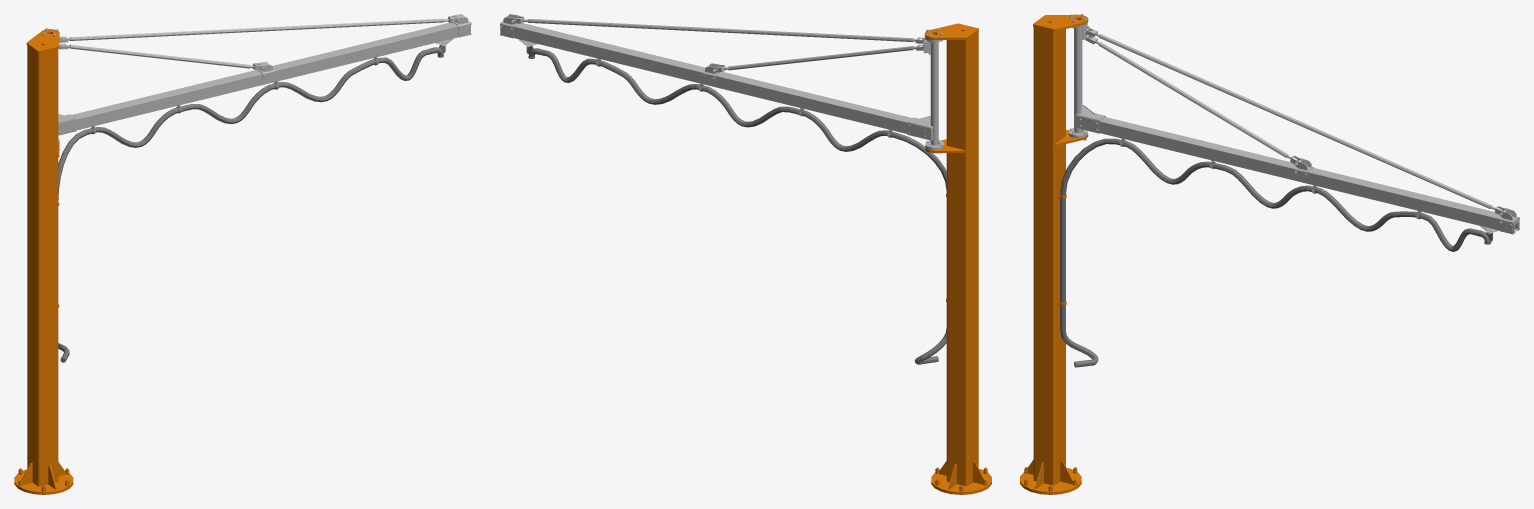
File: aardwolf_all_part_Over Braced Jib Crane - 4m - 250kg@p1_-100_-166_0@p2_3966_-166_3067.fbx
3 views of the same model, side by side, from view 1: azimuth 30°, elevation 25°; view 2: azimuth 150°, elevation 25°; view 3: azimuth 330°, elevation 25° (orthographic). The views are drawn at different scales.
Visible parts, largest first — view 1: aardwolf_all_part_obj216, aardwolf_all_part_obj214, Shape139, Shape118; view 2: aardwolf_all_part_obj216, aardwolf_all_part_obj214, Shape139, Shape118; view 3: aardwolf_all_part_obj216, aardwolf_all_part_obj214, Shape139, Shape118.
Boxes of the visible parts, <box> form: aardwolf_all_part_obj216: <box>14,29,73,494</box>; aardwolf_all_part_obj214: <box>42,14,471,144</box>; Shape139: <box>94,49,429,147</box>; Shape118: <box>58,128,93,362</box>; aardwolf_all_part_obj216: <box>924,23,991,494</box>; aardwolf_all_part_obj214: <box>500,14,943,153</box>; Shape139: <box>543,50,888,151</box>; Shape118: <box>890,131,946,364</box>; aardwolf_all_part_obj216: <box>1020,14,1088,494</box>; aardwolf_all_part_obj214: <box>1068,14,1519,234</box>; Shape139: <box>1122,140,1475,251</box>; Shape118: <box>1060,138,1121,367</box>.
Bounding box in the file's own units: 4447 × 4061 × 493.
